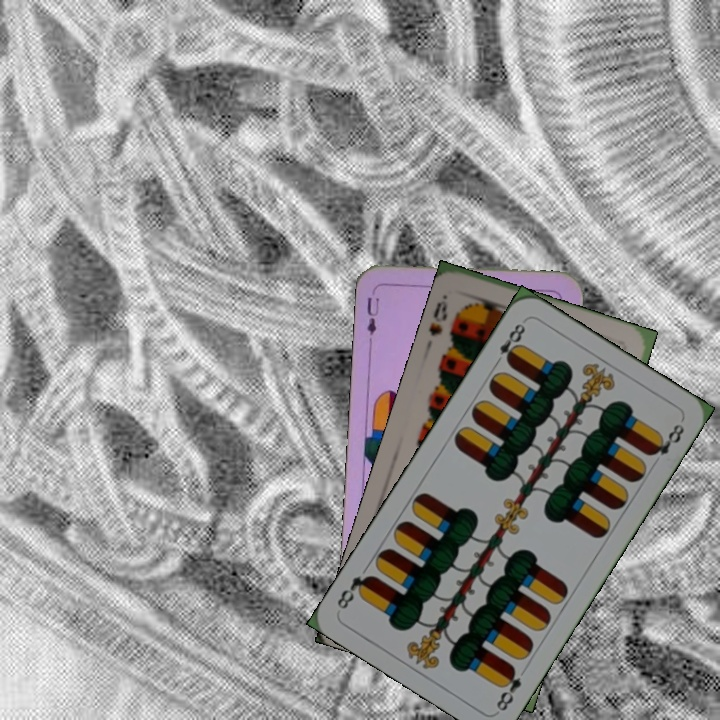E8: (490, 319, 528, 369), (492, 662, 524, 714)
EU: (362, 293, 382, 337)
S8: (425, 290, 450, 339)
